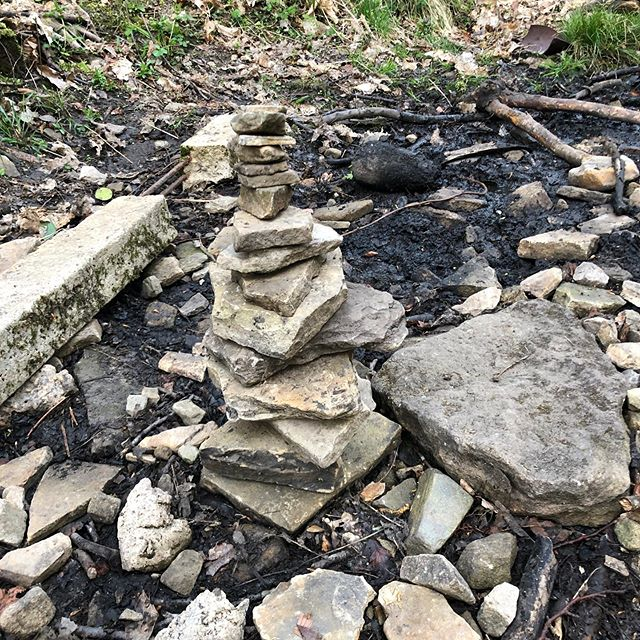rocks: (31, 141, 640, 640)
vegetation: (31, 1, 640, 103)
